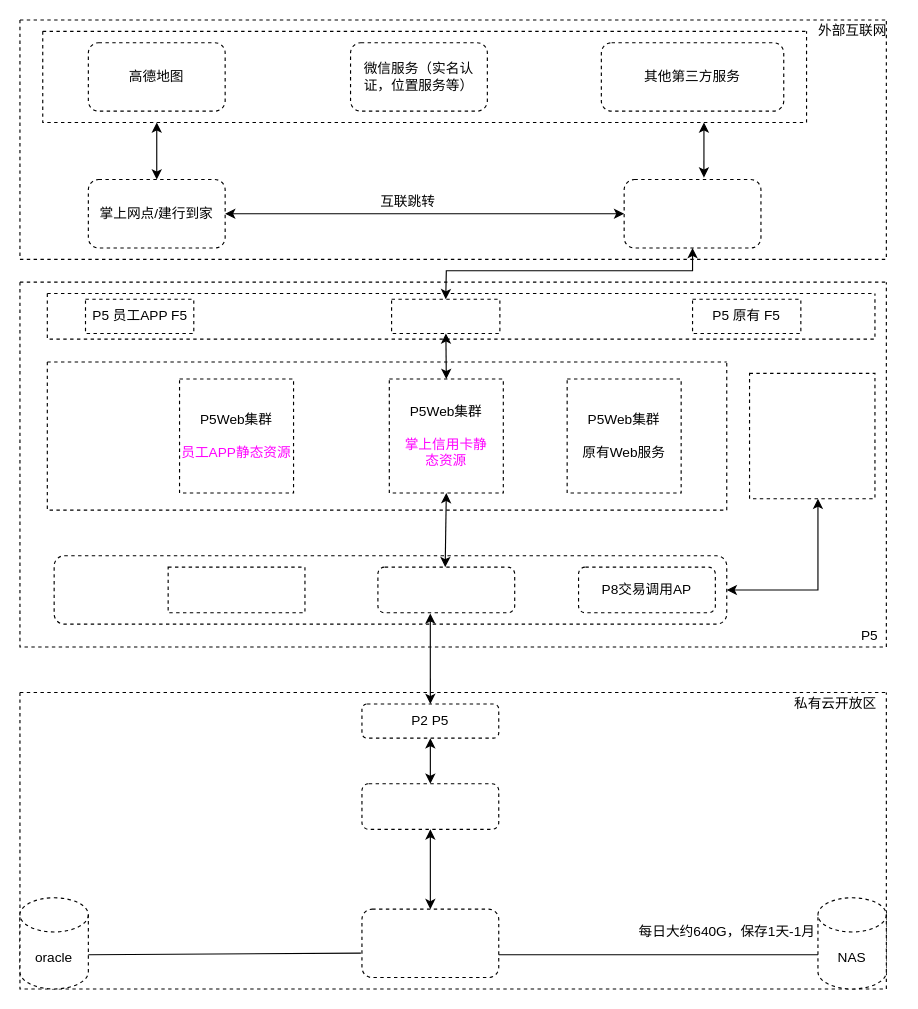
Image size: 918x1009. Some labels were removed from this diagram. The shapes that lost their labels are listed below. From the top down, each one's centre as x and y in pixels, then its label:
[692,213]: 掌上信用卡
[445,315]: P5 掌上网点 F5
[811,435]: P5外联区
[236,589]: 员工APP AP
[446,589]: 掌上网点Ap
[430,806]: P2 Web
[430,943]: P2Server
